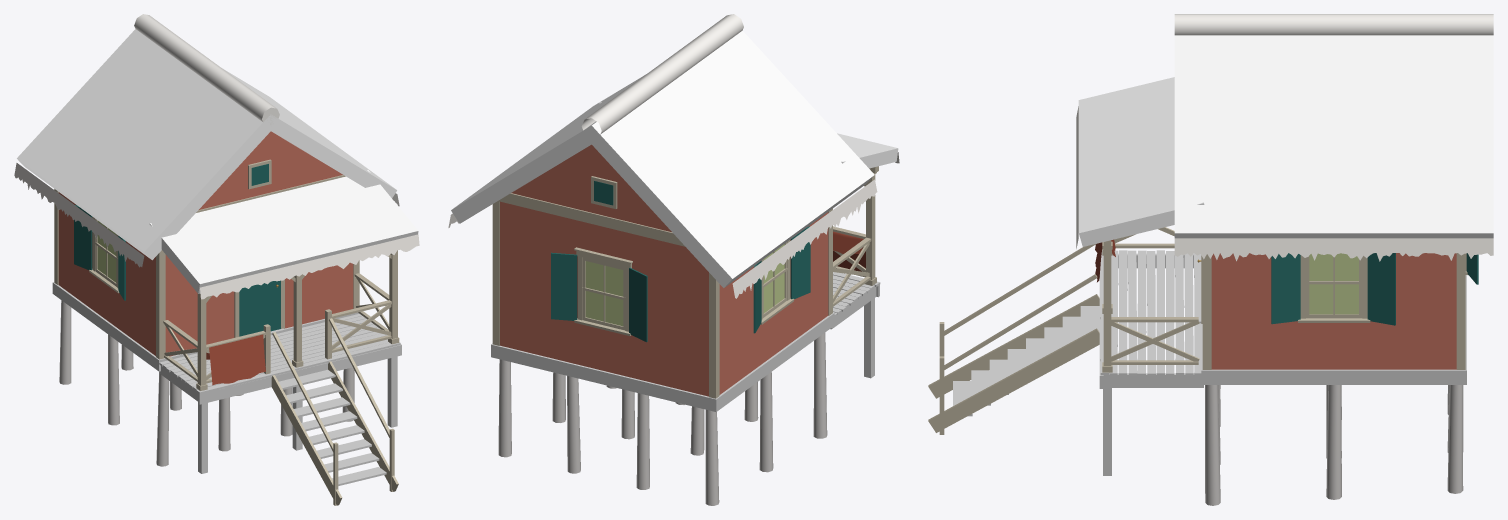
File: beach-hut-s2.glb
3 renders of one model, left to right at view 1: azimuth 30°, elevation 25°; view 2: azimuth 150°, elevation 25°; view 3: azimuth 270°, elevation 25°, orthographic. The views are drawn at different scales.
Parts seen in each view (by area): view 1: Beach hut S2; view 2: Beach hut S2; view 3: Beach hut S2.
Boxes of the visible parts, x1=… form: Beach hut S2: x1=14, y1=14, x2=419, y2=505; Beach hut S2: x1=448, y1=14, x2=899, y2=505; Beach hut S2: x1=928, y1=14, x2=1493, y2=505.
Bounding box in the file's own units: 5.7 × 7.31 × 8.68.
